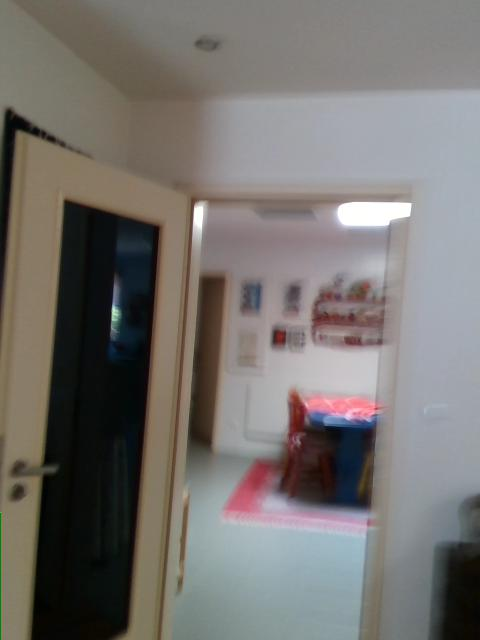door: (1, 128, 190, 639)
